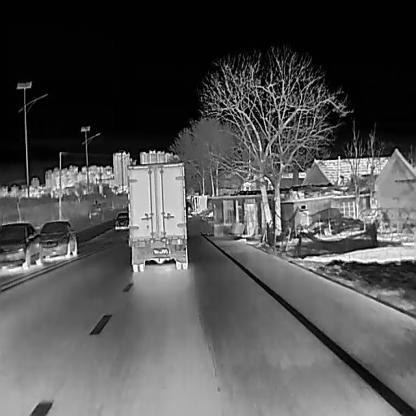car: (125, 161, 189, 271), (0, 220, 42, 268), (37, 219, 78, 260), (114, 211, 130, 229)
